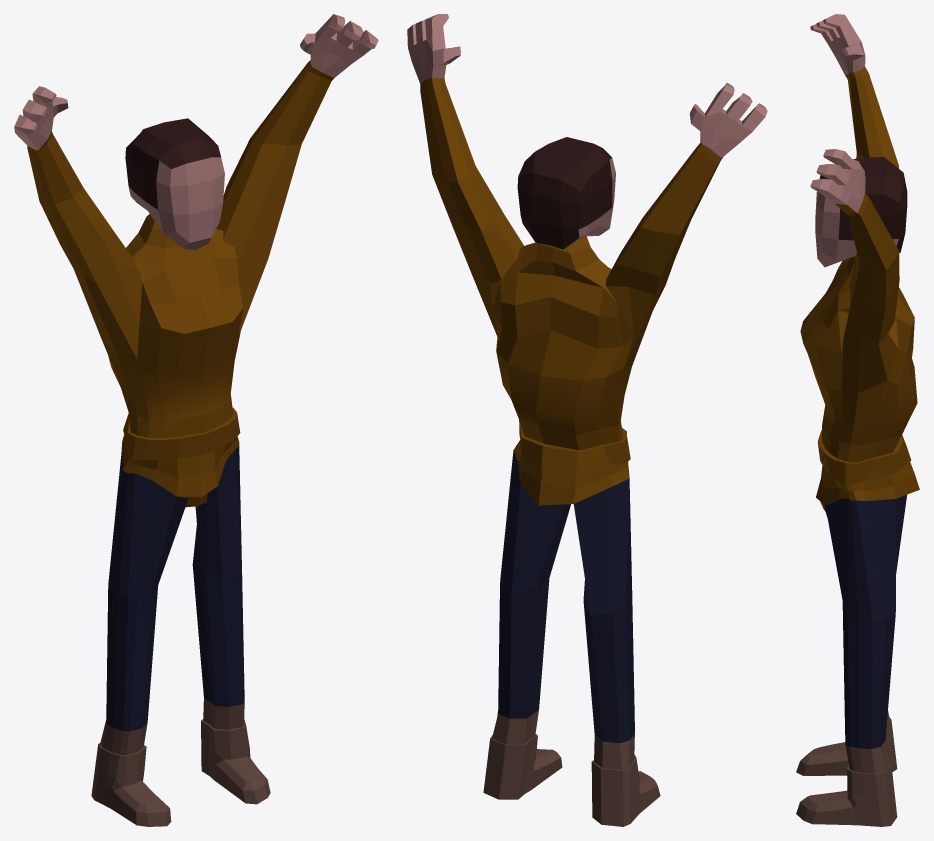
Rendered from Fan_3.fbx.
3 renders of one model, left to right at view 1: azimuth 30°, elevation 25°; view 2: azimuth 150°, elevation 25°; view 3: azimuth 270°, elevation 25°, orthographic. The views are drawn at different scales.
Parts seen in each view (by area): view 1: Fan_3; view 2: Fan_3; view 3: Fan_3.
Part boxes in pixels (x1,y1,x2,y2): Fan_3: (14,14,378,826); Fan_3: (407,14,767,826); Fan_3: (796,14,919,826).
Size of the model in its own units: 79.27 by 156 by 24.69.
